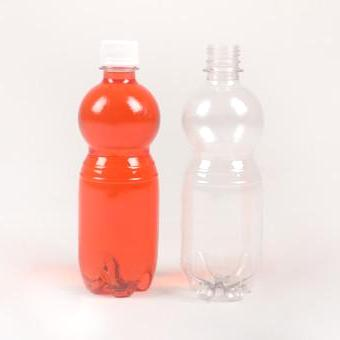bottle: (79, 41, 161, 299), (182, 44, 263, 301)
